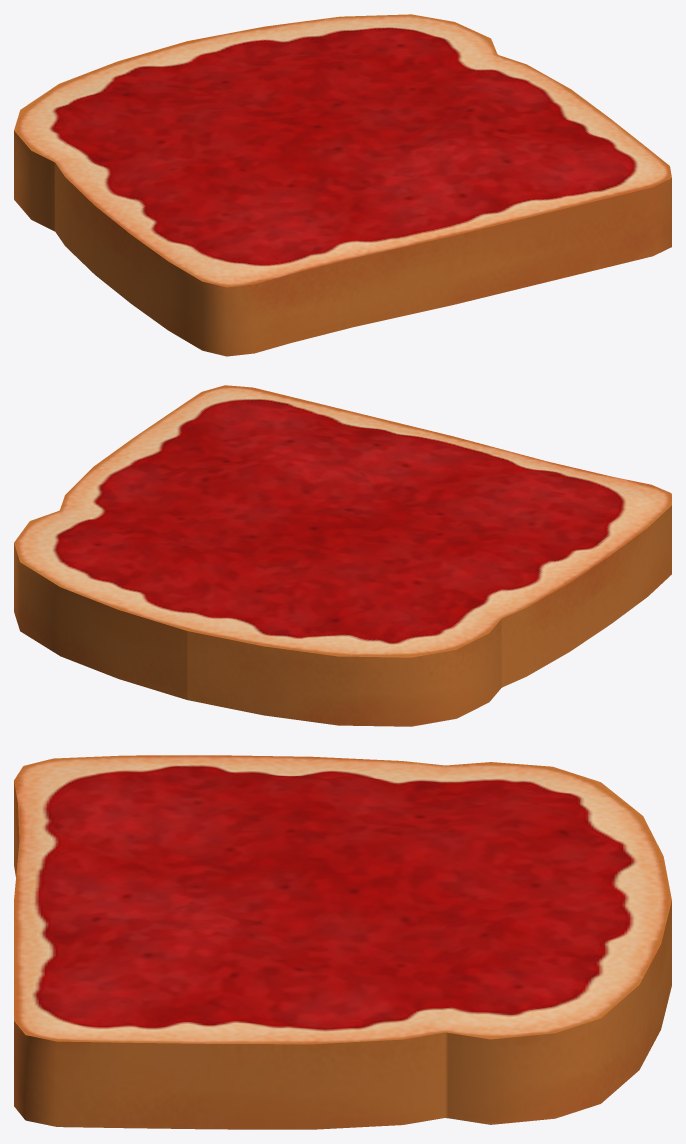
The model's file is ToastWithJam_1.fbx.
3 renders of one model, top to bottom at view 1: azimuth 30°, elevation 25°; view 2: azimuth 150°, elevation 25°; view 3: azimuth 270°, elevation 25°, orthographic. The views are drawn at different scales.
Visible parts, largest first — view 1: ToastWithJam_1; view 2: ToastWithJam_1; view 3: ToastWithJam_1.
Part boxes in pixels (x1=…): ToastWithJam_1: x1=14, y1=14, x2=671, y2=356; ToastWithJam_1: x1=14, y1=385, x2=671, y2=726; ToastWithJam_1: x1=14, y1=755, x2=671, y2=1129.
Bounding box in the file's own units: 66.78 × 10.93 × 64.25.
1 material, 1 textured.
